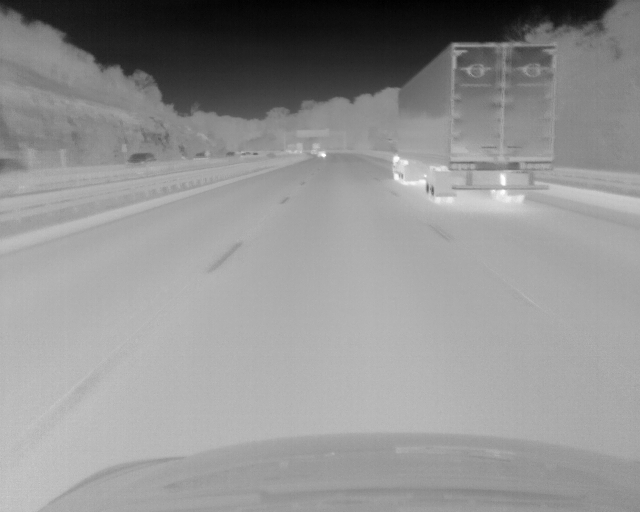car: (390, 42, 557, 206), (127, 153, 153, 164)
